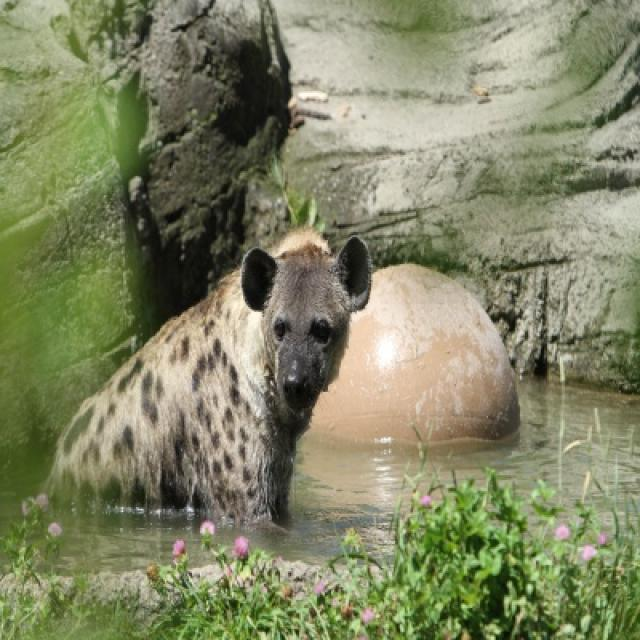hyena: (48, 227, 374, 530)
